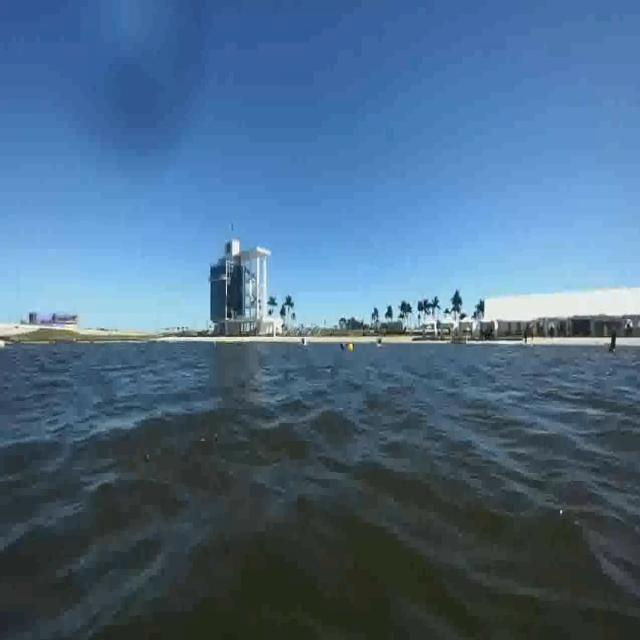green-column-buoy: (610, 337, 618, 349)
yellow-buoy: (348, 342, 355, 354)
